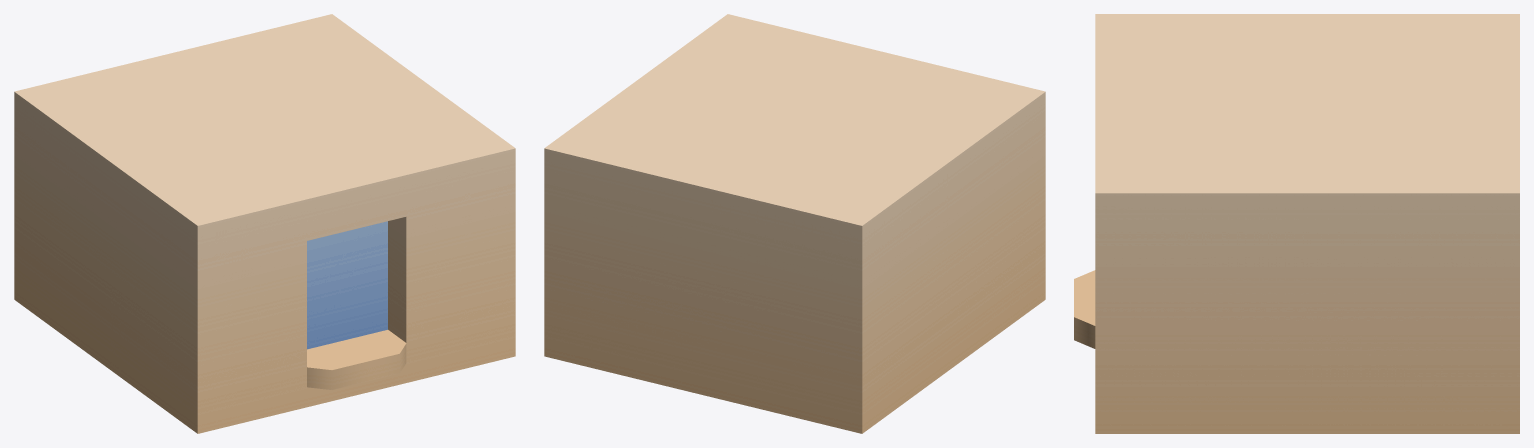
The picture shows the model from 3 angles, left to right: view 1: azimuth 30°, elevation 25°; view 2: azimuth 150°, elevation 25°; view 3: azimuth 270°, elevation 25°; orthographic projection. The views are drawn at different scales.
Parts seen in each view (by area): view 1: building-window-sill; view 2: building-window-sill; view 3: building-window-sill.
Boxes of the visible parts, x1,y1,x2,y2 form: building-window-sill: (14, 14, 515, 433); building-window-sill: (544, 14, 1045, 433); building-window-sill: (1074, 14, 1519, 433).
Size of the model in its own units: 1 by 0.625 by 1.05.
Materials: 1 (1 with a texture image).
